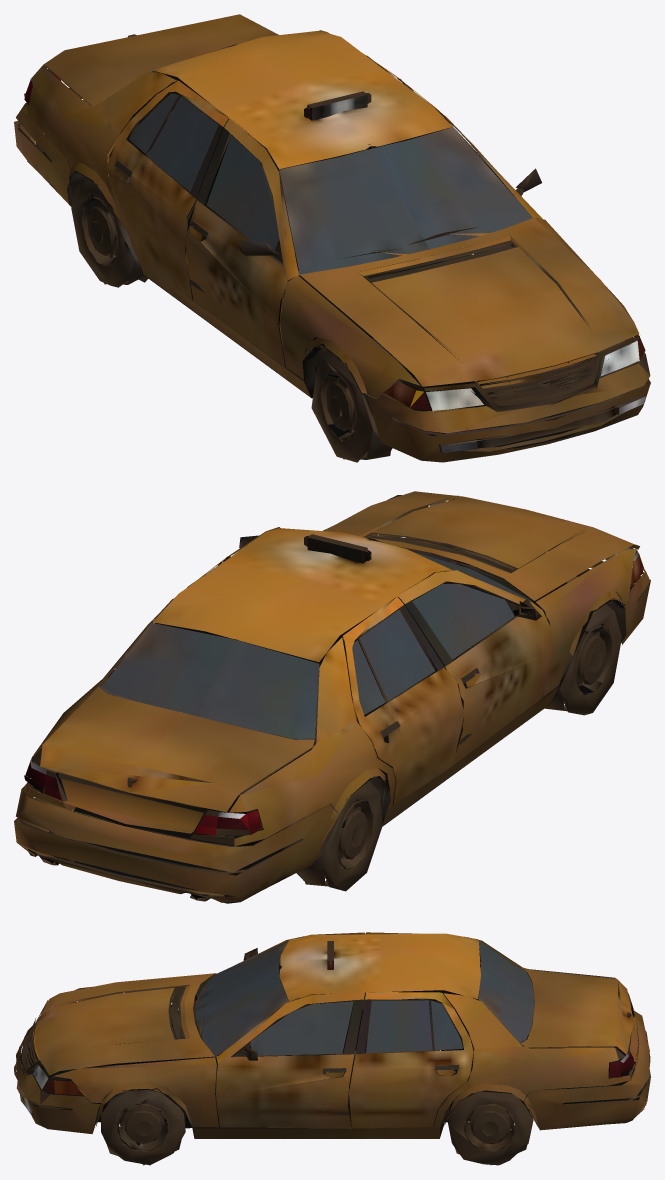
File: pack-taxi-L3.glb
3 renders of one model, top to bottom at view 1: azimuth 30°, elevation 25°; view 2: azimuth 150°, elevation 25°; view 3: azimuth 270°, elevation 25°, orthographic. The views are drawn at different scales.
Parts seen in each view (by area): view 1: body; view 2: body; view 3: body.
Part boxes in pixels (x1,y1,x2,y2): body: (14, 14, 650, 462); body: (14, 491, 650, 903); body: (14, 932, 650, 1165).
Bounding box in the file's own units: 2 × 1.52 × 5.1.
1 material, 1 textured.
